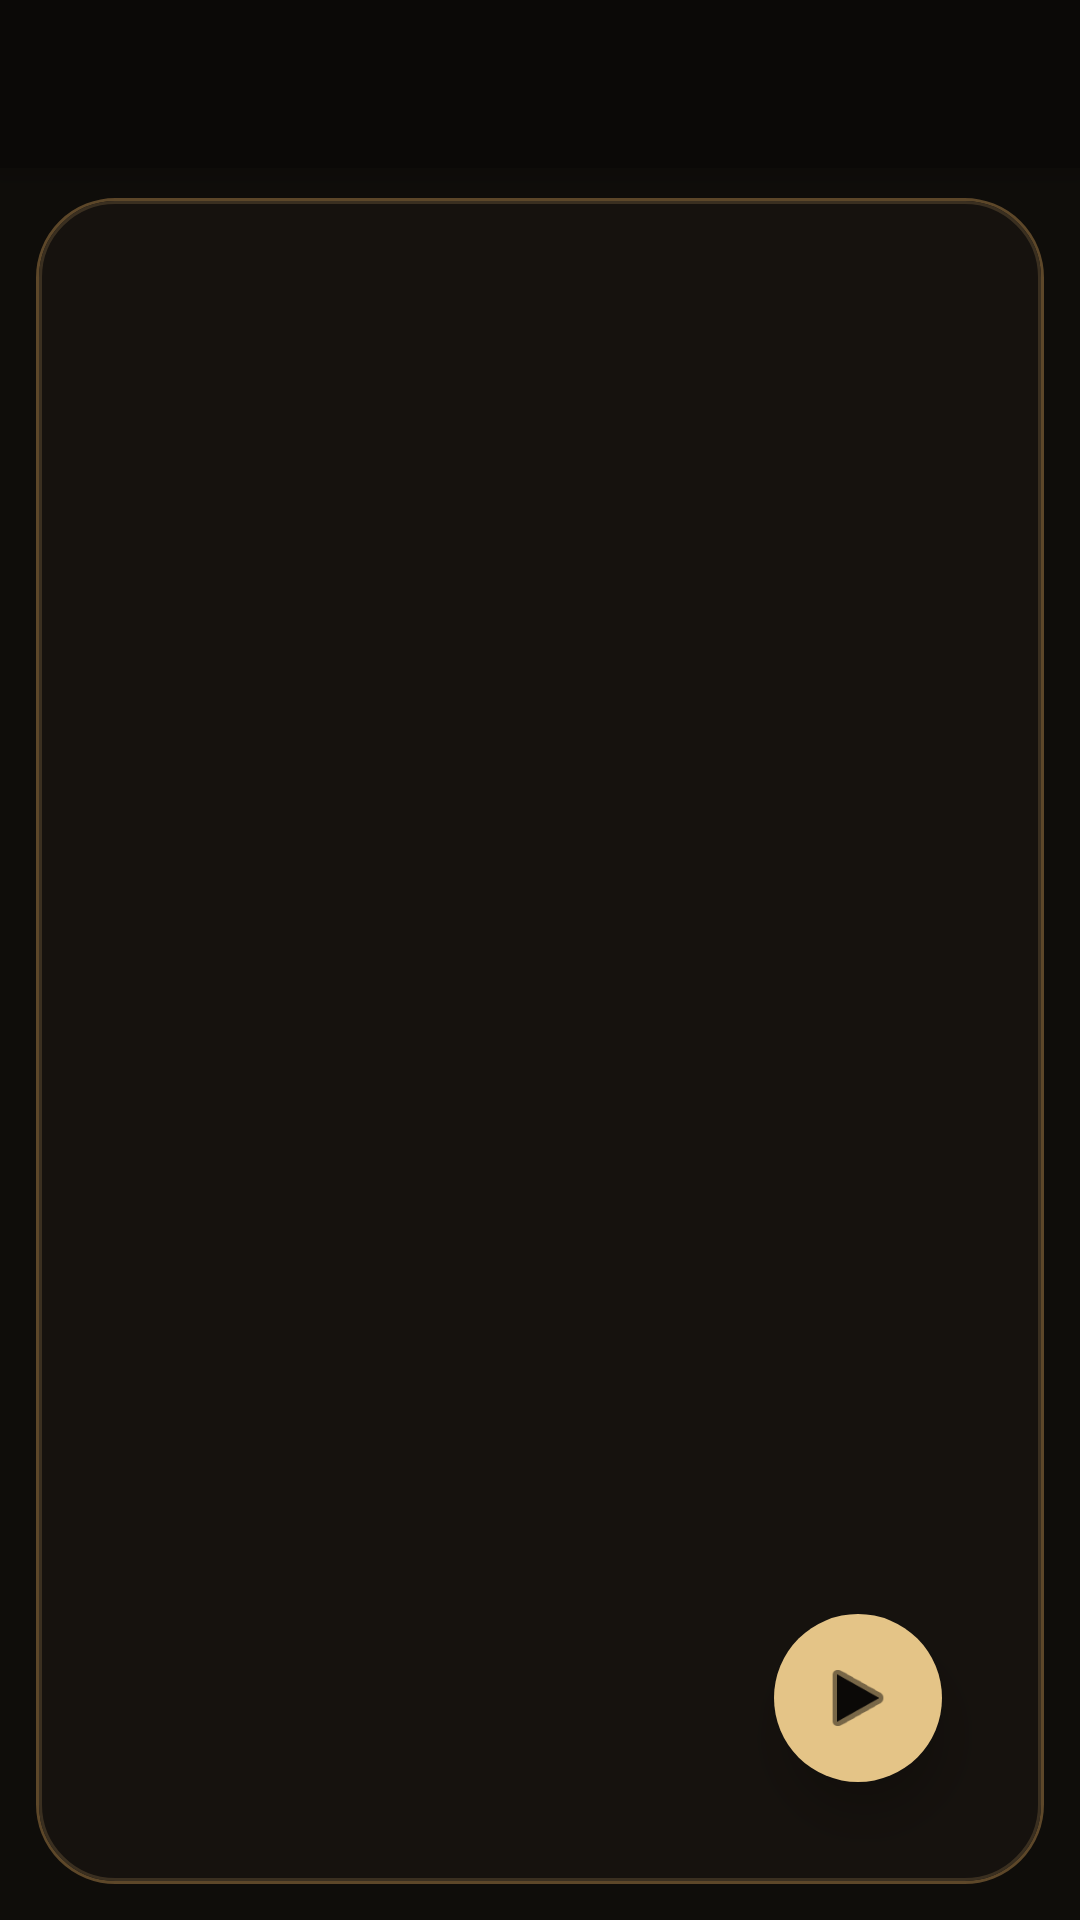

Named icons in this screenshot (1080px x 1920px) and their centers, [x,y]:
Начать игру: [858,1698]
